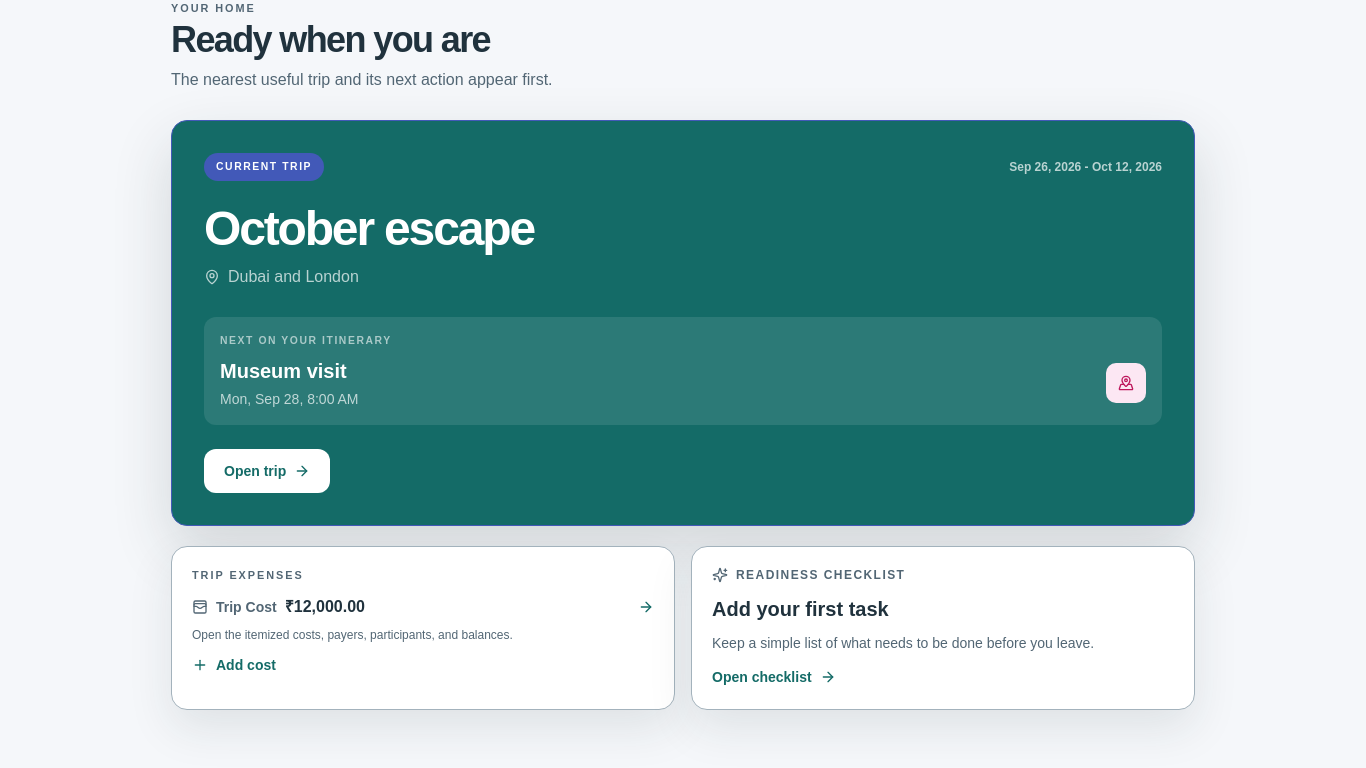
Test: home trip expenses › opens the itemized modal, reveals balances on request, and returns from an expense detail
Check: the text "Sep 26, 2026 - Oct 12, 2026" is shown, box top-left (1009, 159), bottom-right (1162, 175)
Click the button named "Open trip expenses": (423, 628) top-left (172, 546), bottom-right (674, 708)
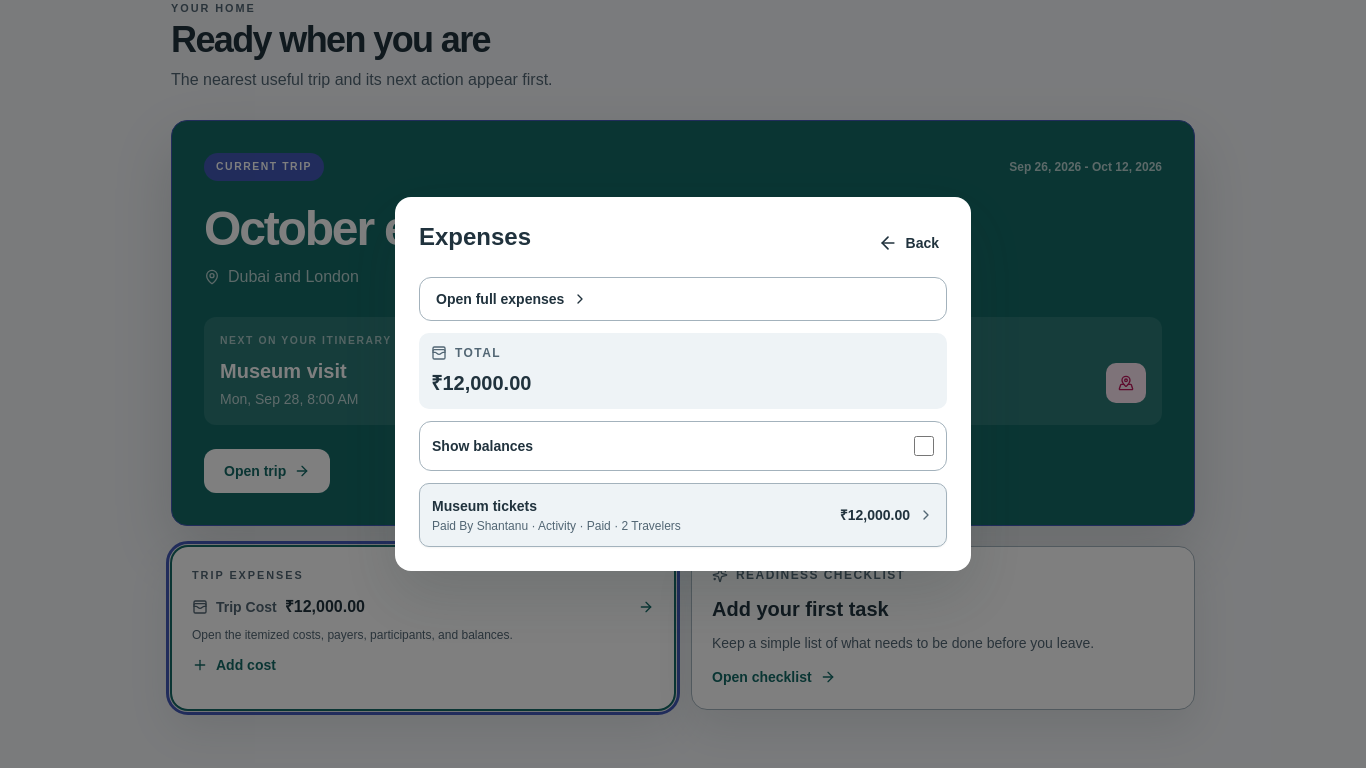
Check: the text "Balances by currency" is not shown
Check: the button with aria-label "View details for Museum tickets" shows "2 travelers", box top-left (419, 483), bottom-right (947, 547)
Click the checkbox labelled "Show balances": (924, 446) top-left (914, 436), bottom-right (934, 456)
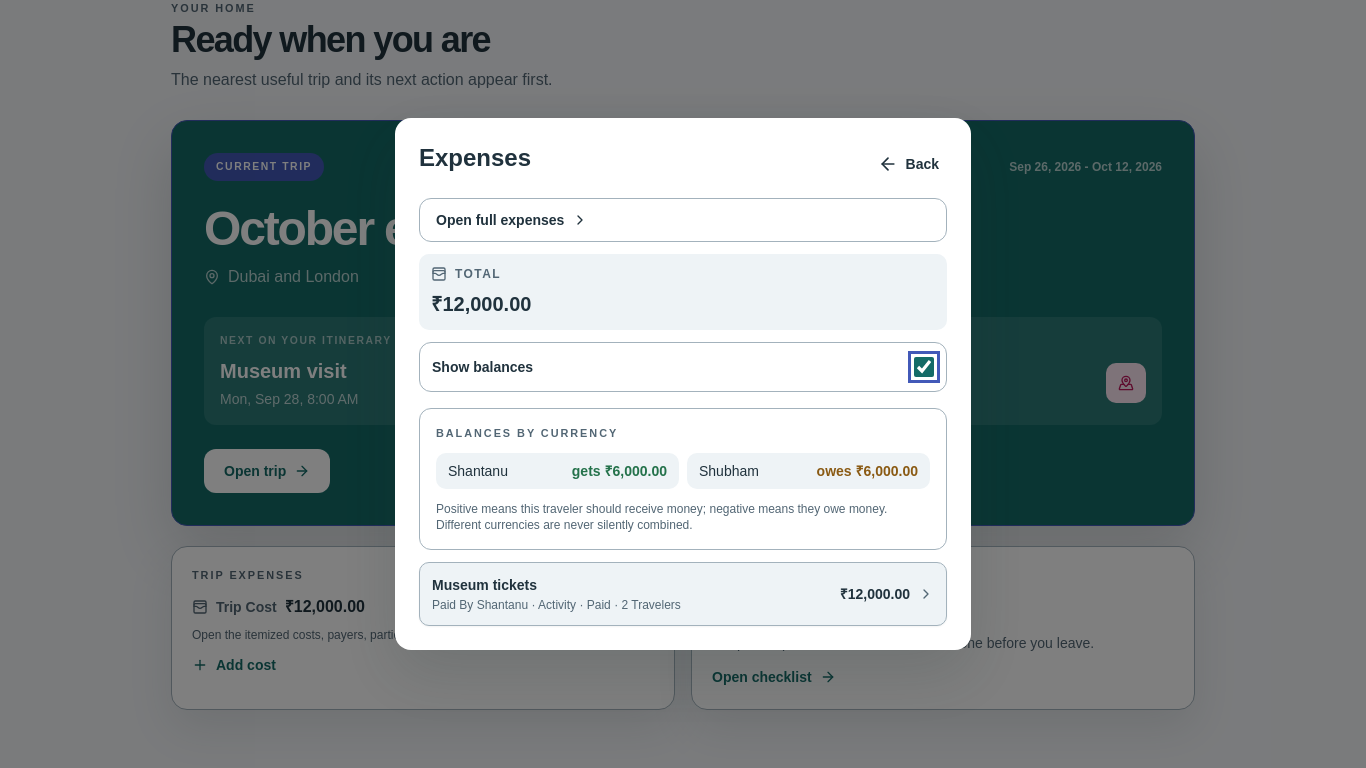
Check: the text "Balances by currency" is shown, box top-left (436, 427), bottom-right (618, 439)
Check: the text "gets ₹6,000.00" is shown, box top-left (572, 461), bottom-right (667, 481)
Check: the text "owes ₹6,000.00" is shown, box top-left (817, 461), bottom-right (918, 481)
Click the button with aria-label "View details for Museum tickets": (485, 585) top-left (419, 562), bottom-right (947, 626)
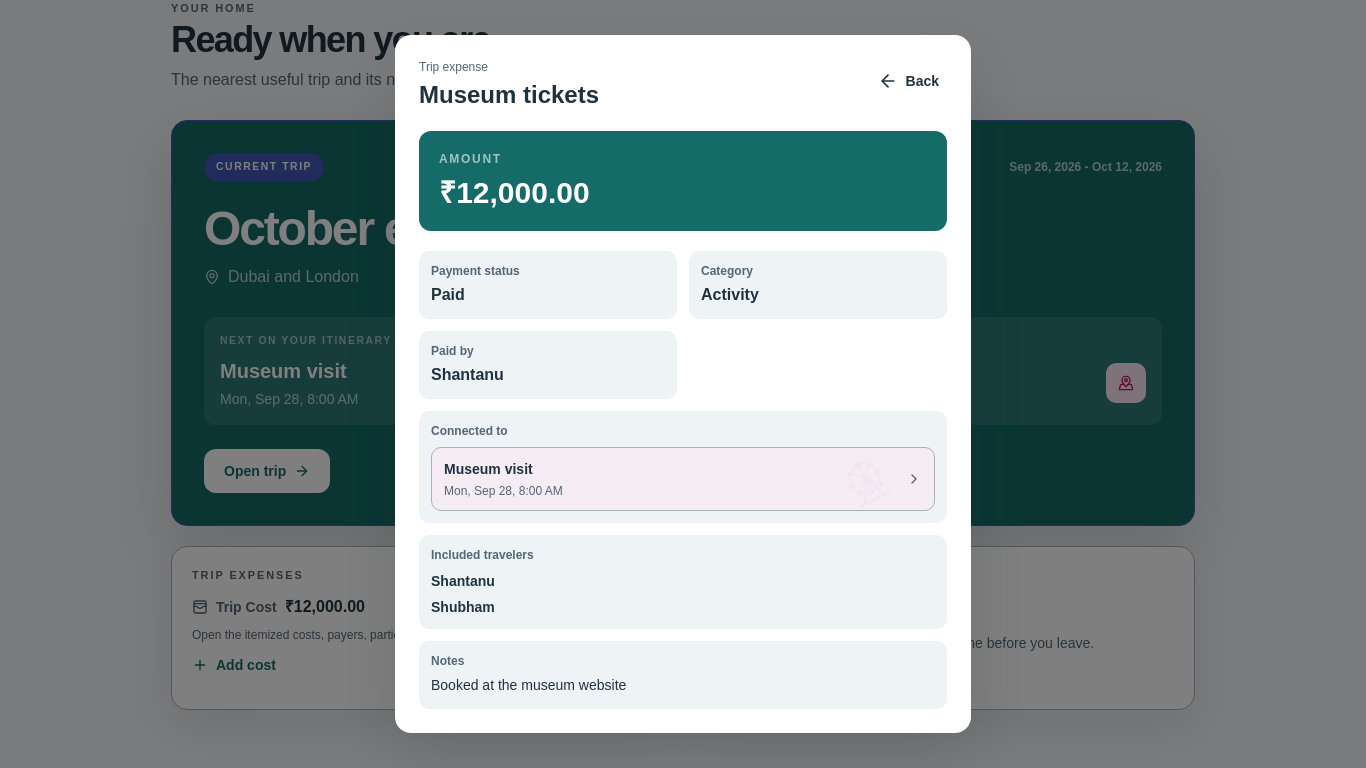
Check: the text "Booked at the museum website" is shown, box top-left (431, 677), bottom-right (626, 693)
Click the button "Back": (908, 81) top-left (870, 59), bottom-right (947, 103)
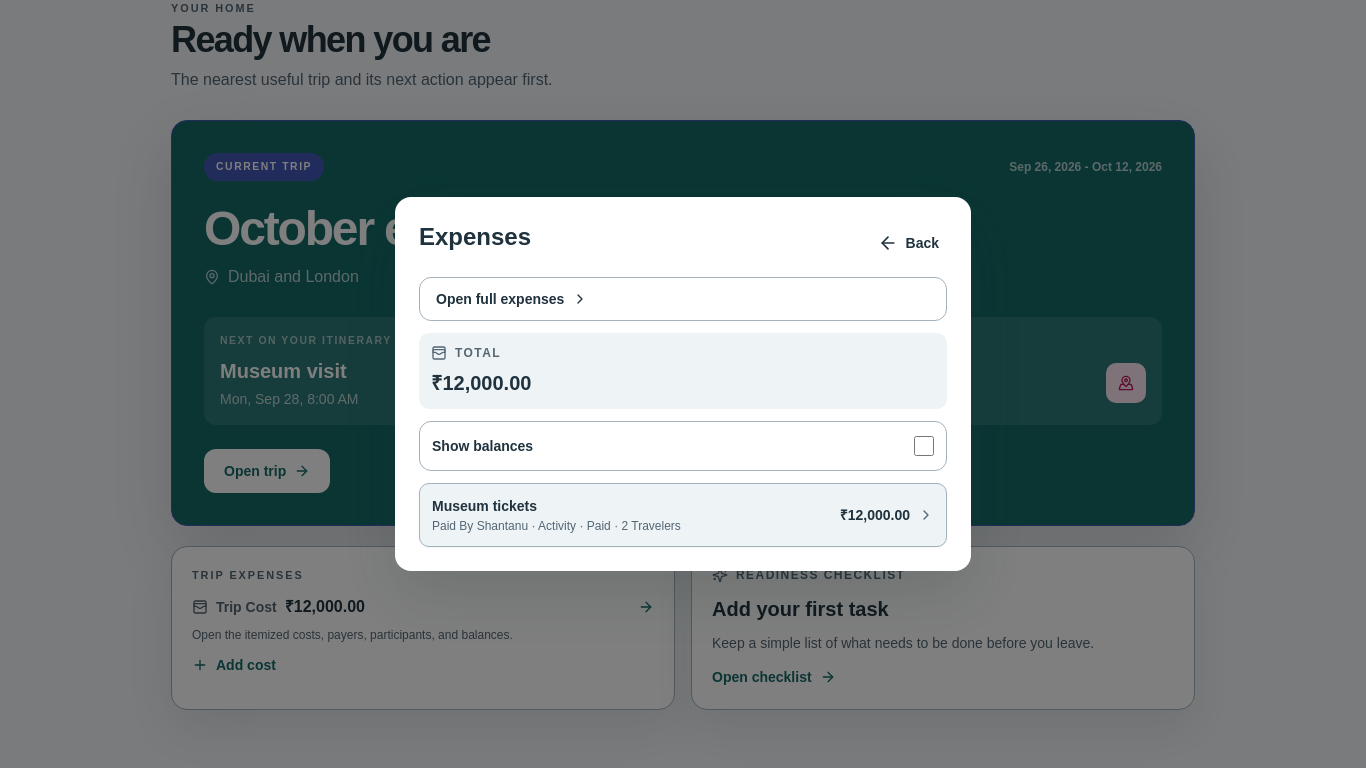
Check: the dialog "Expenses" is shown, box top-left (395, 197), bottom-right (971, 571)
